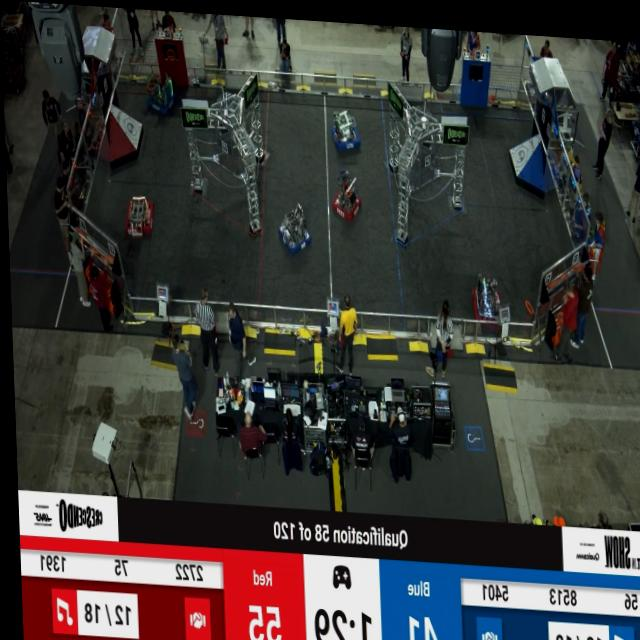Robot: (468, 265, 509, 325), (276, 198, 310, 255), (330, 163, 362, 221), (146, 67, 178, 118), (122, 190, 154, 238), (329, 103, 361, 151)
